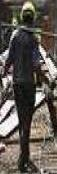gloves: (1, 1, 1, 1)
hard-hat: (20, 1, 36, 21)
